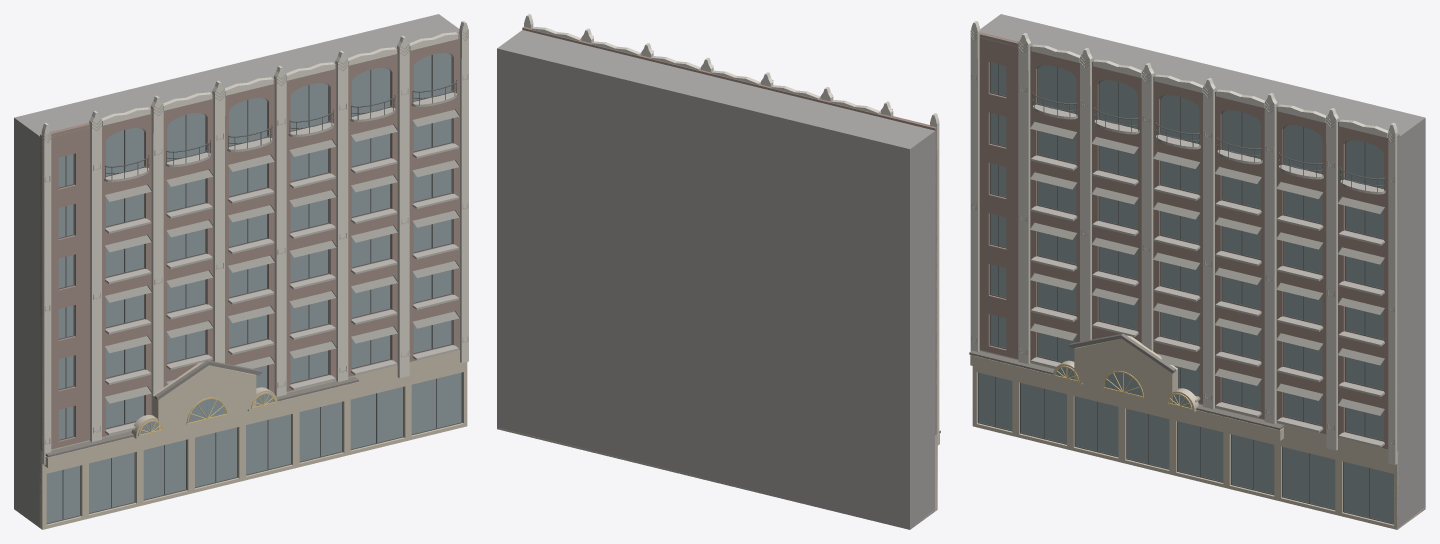
Rendered from hongkou-sihang-building-north-front-lod.glb.
3 views of the same model, side by side, from view 1: azimuth 30°, elevation 25°; view 2: azimuth 150°, elevation 25°; view 3: azimuth 330°, elevation 25° (orthographic). The views are drawn at different scales.
Visible parts, largest first — view 1: 四川北路四行大楼临街北段; view 2: 四川北路四行大楼临街北段; view 3: 四川北路四行大楼临街北段.
Part boxes in pixels (x1,y1,x2,y2): 四川北路四行大楼临街北段: (14,14,468,529); 四川北路四行大楼临街北段: (497,14,940,529); 四川北路四行大楼临街北段: (969,14,1425,529).
Bounding box in the file's own units: 26.44 × 24.12 × 4.05.
